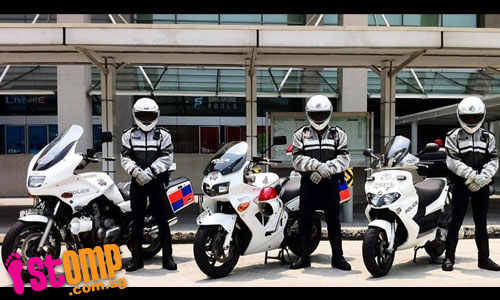helmet: (458, 94, 484, 131), (132, 98, 159, 129), (306, 96, 333, 127)
